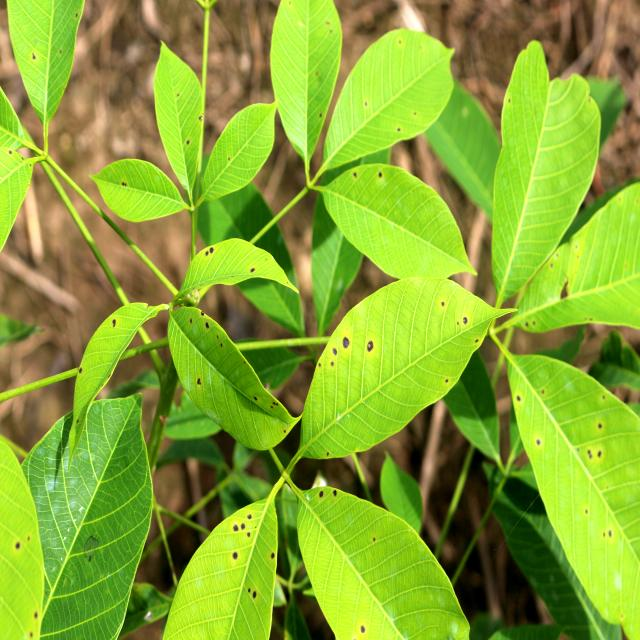Colletotrichum: (367, 341, 373, 352), (343, 337, 349, 348), (462, 317, 468, 325), (232, 552, 238, 560), (233, 524, 239, 532), (209, 247, 214, 253), (252, 591, 256, 598), (197, 378, 201, 385), (333, 490, 337, 496), (320, 491, 324, 497), (241, 524, 245, 530), (248, 514, 252, 520), (270, 552, 274, 558), (206, 322, 209, 328), (251, 268, 255, 272), (248, 532, 250, 537), (206, 251, 208, 256)
